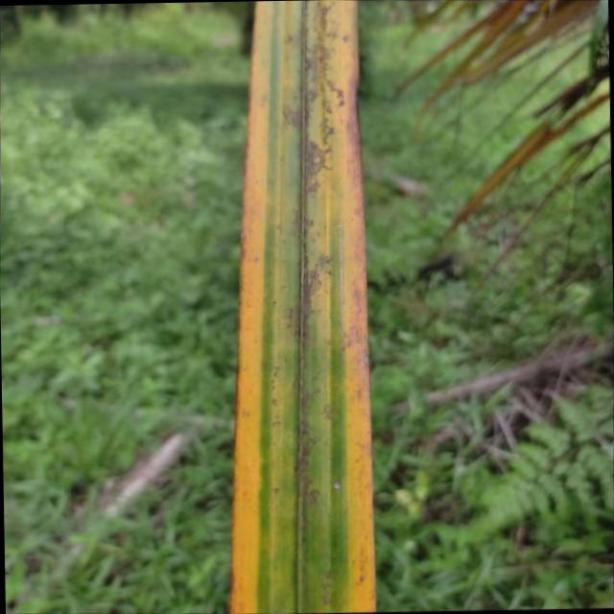Megnesium: (230, 0, 373, 614)
